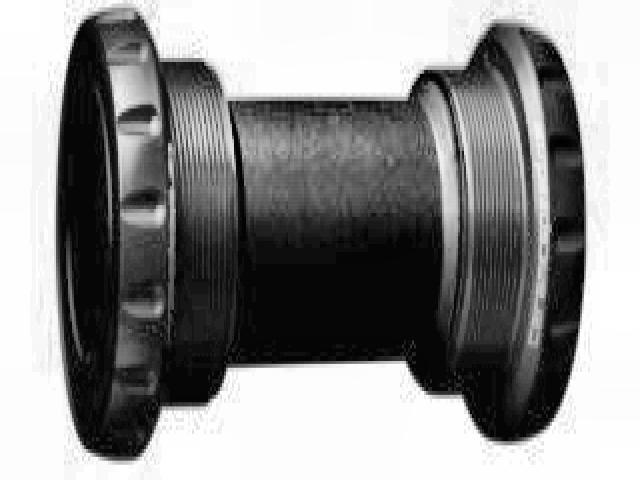bottom_bracket: (53, 5, 589, 464)
